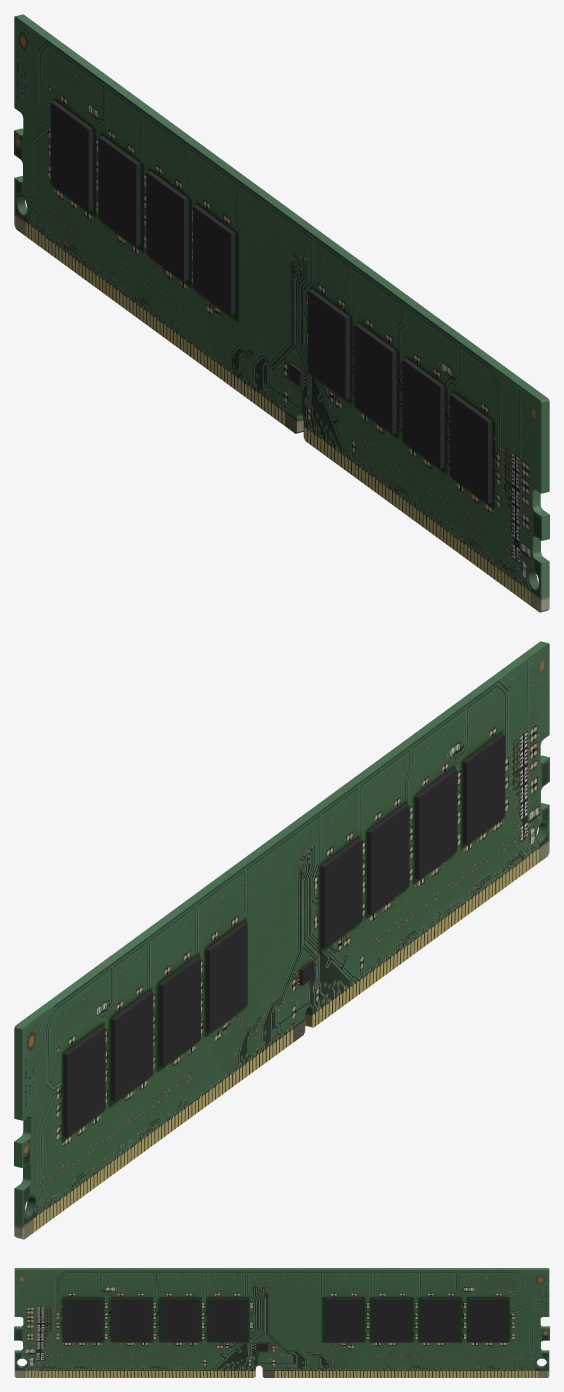
File: RAM 1.fbx
The picture shows the model from 3 angles, top to bottom: view 1: azimuth 30°, elevation 25°; view 2: azimuth 150°, elevation 25°; view 3: azimuth 270°, elevation 25°; orthographic projection. The views are drawn at different scales.
Visible parts, largest first — view 1: model_Ram_basic_DDR44_board, model_Ram_basic_DDR44_chips; view 2: model_Ram_basic_DDR44_board, model_Ram_basic_DDR44_chips; view 3: model_Ram_basic_DDR44_board, model_Ram_basic_DDR44_chips.
Boxes of the visible parts, <box> form: model_Ram_basic_DDR44_board: <box>14,14,549,612</box>; model_Ram_basic_DDR44_chips: <box>50,101,492,503</box>; model_Ram_basic_DDR44_board: <box>14,641,549,1239</box>; model_Ram_basic_DDR44_chips: <box>63,734,504,1136</box>; model_Ram_basic_DDR44_board: <box>14,1268,549,1377</box>; model_Ram_basic_DDR44_chips: <box>64,1298,508,1351</box>.
Size of the model in its own units: 0.0128 by 0.148 by 0.6663.
